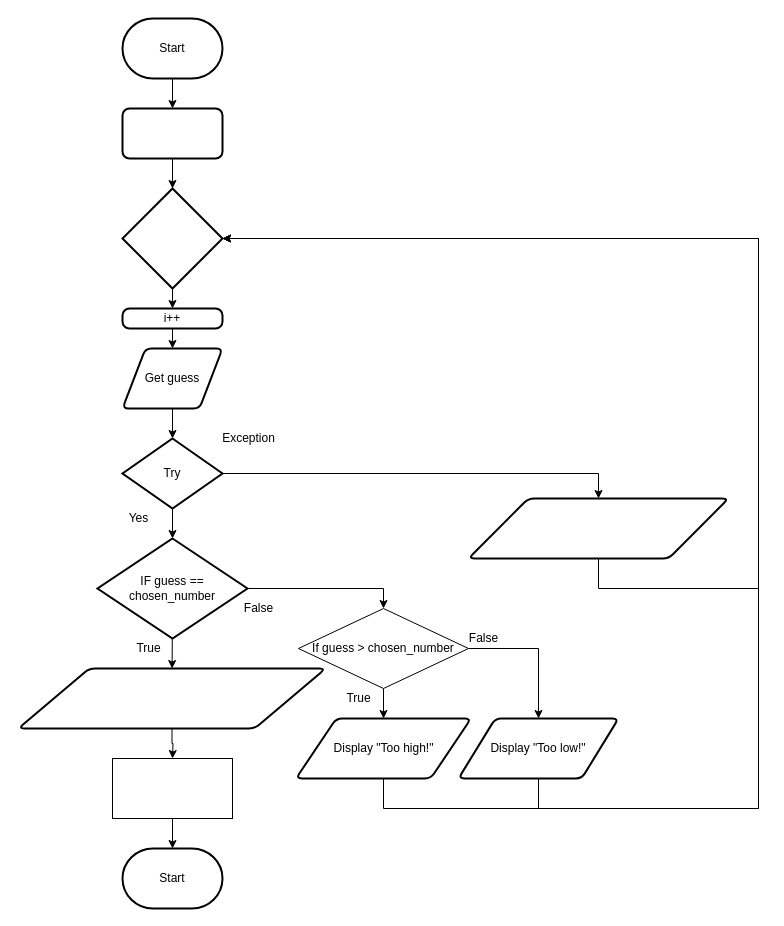
Some shapes in this 784 by 926 pixel diagram are drawn without their labels. Here are the shapes that lost their labels. From the top down, the centre of each, then its label:
the point at 172,133: Set chosen_number <- randint(0-9)
the point at 172,238: While True
the point at 598,528: Display "Please enter an integer!"
the point at 171,698: Display "You got it in " i " tries!"
the point at 172,788: break
